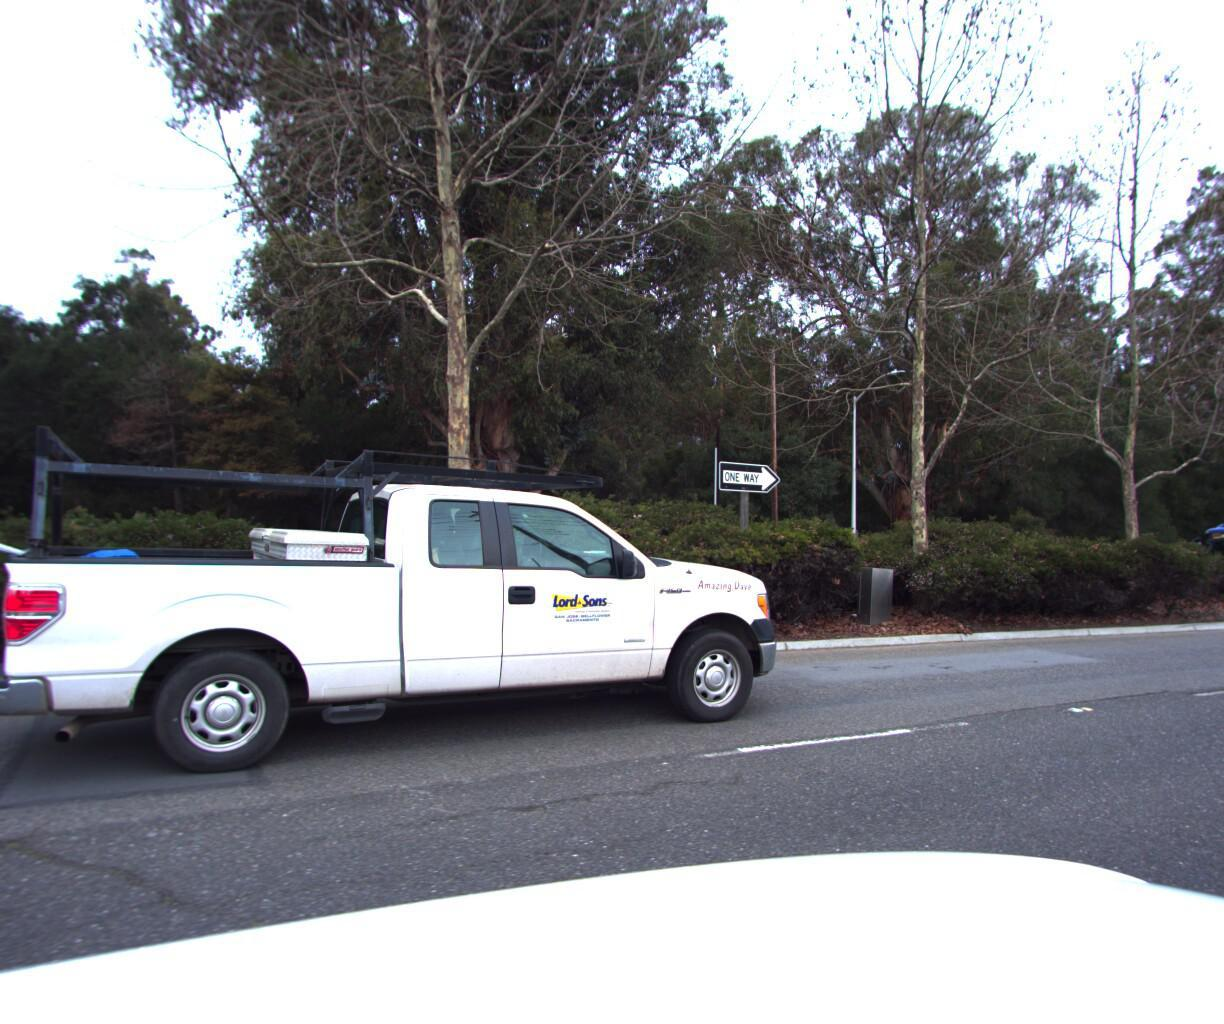bus: (1195, 510, 1224, 584)
car: (0, 408, 800, 818)
